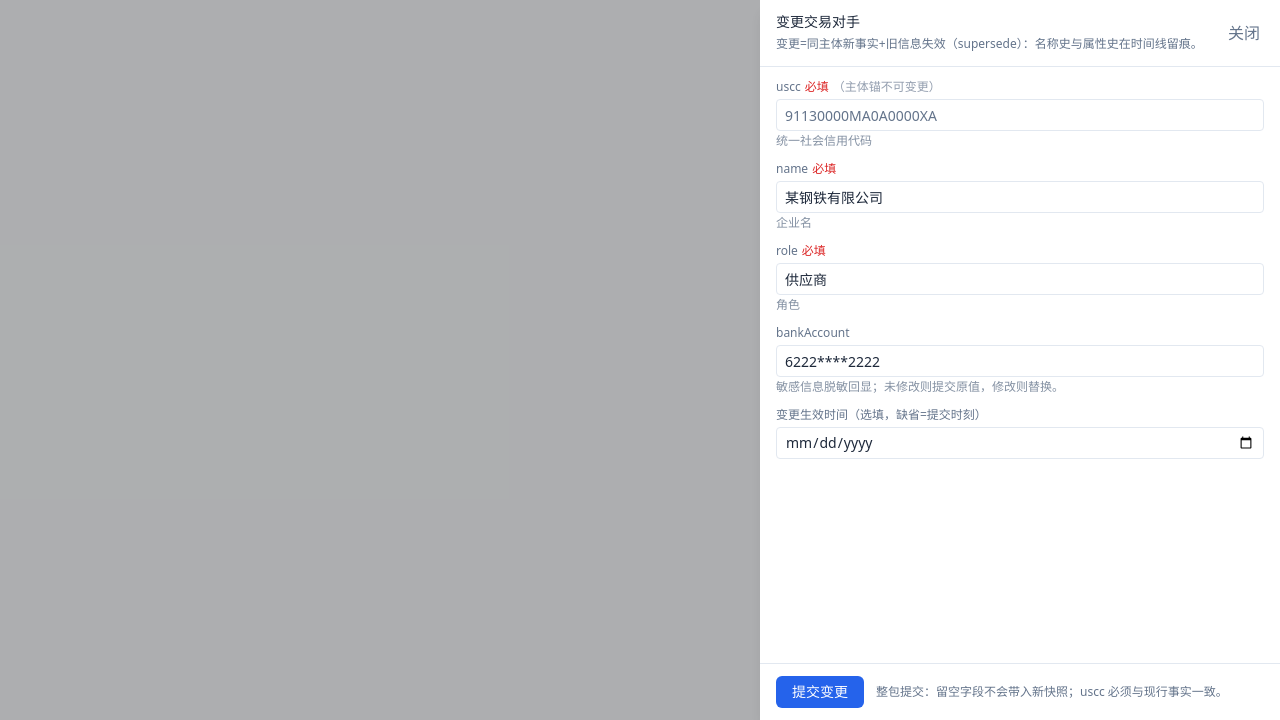
it: MasterDataDrawer › change 模式（spec 主体身份 §4：supersede 换代） › 提交走 changeMasterData：掩码未改还原原值，不含 entityType
This screenshot has width=1280, height=720.
Replace the text in the field labelled "name 必填" with "某钢铁集团股份有限公司" at (1020, 197), box [776,181,1264,213]
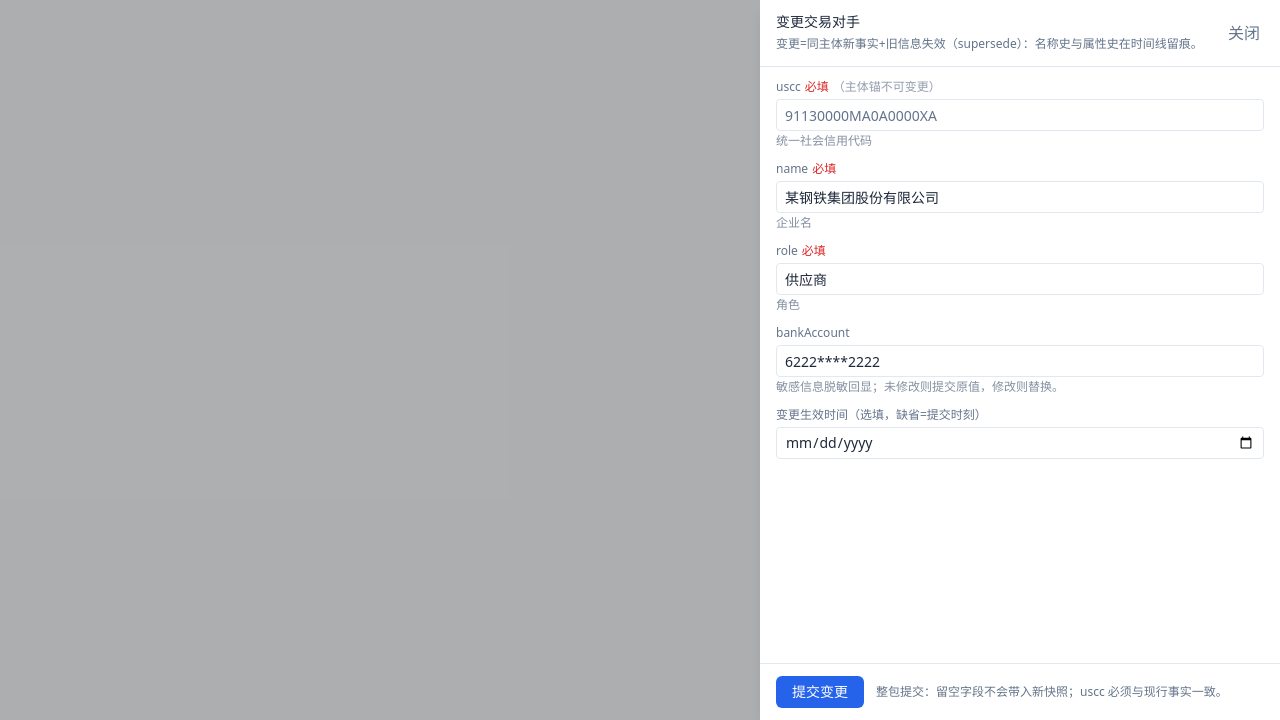
Click the button "提交变更" at (820, 692), box [776,676,864,708]
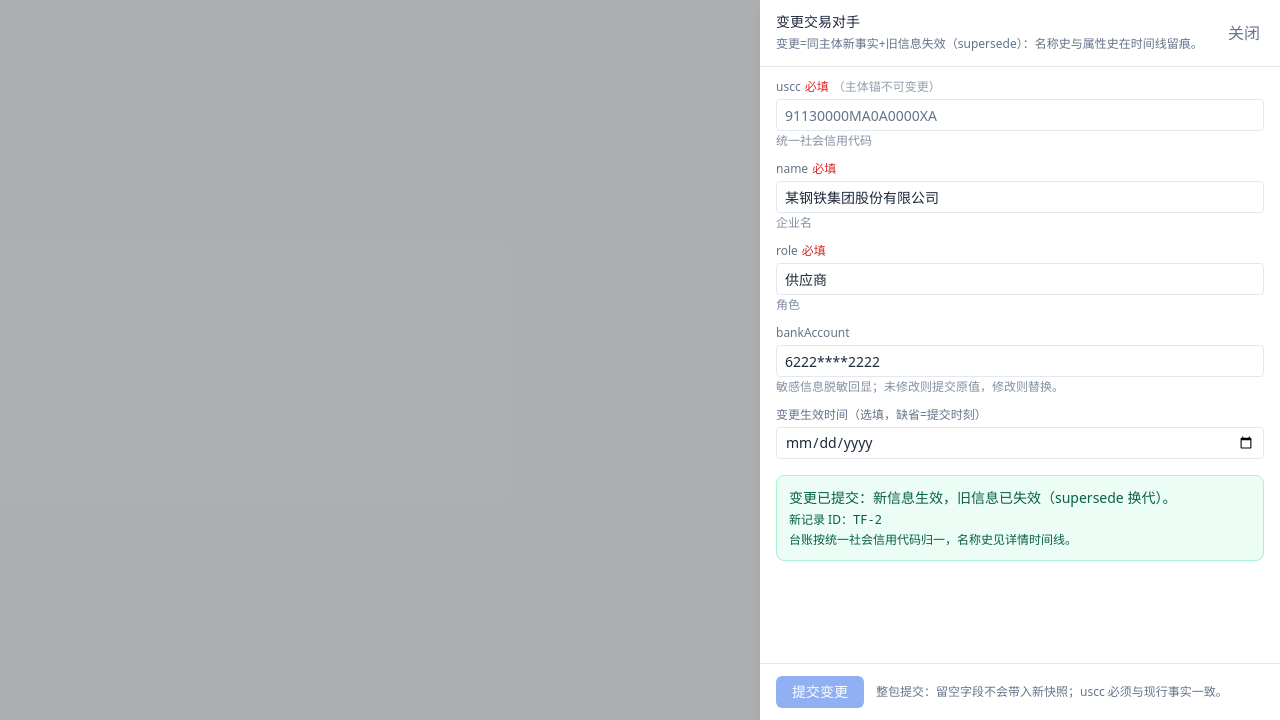
Check: the text "变更已提交：新信息生效，旧信息已失效（supersede 换代）。" is shown, box [789,488,1176,507]
